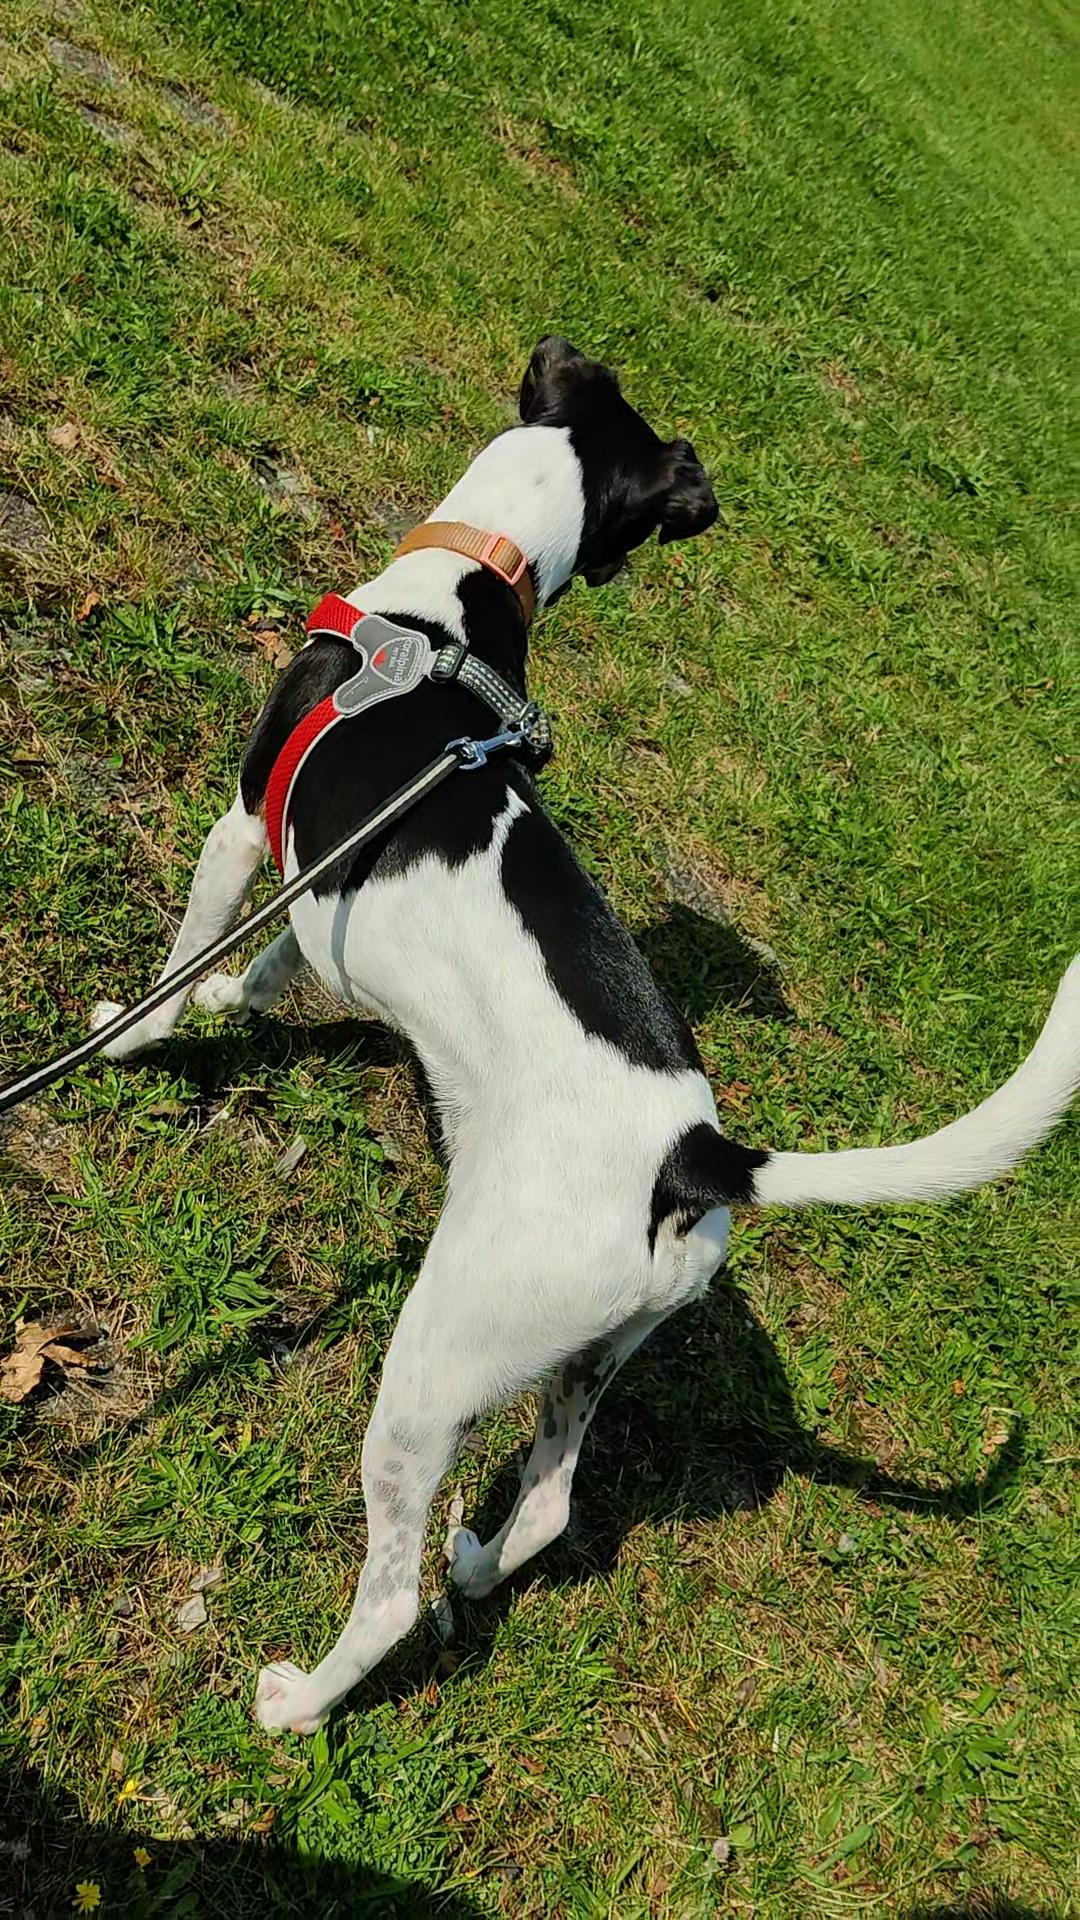Dog: (87, 322, 1079, 1731)
